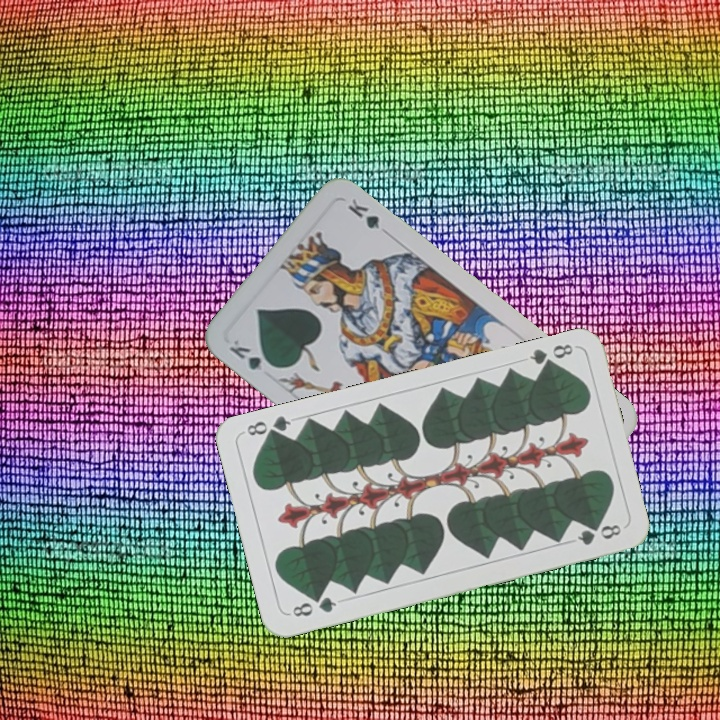G8: (525, 339, 576, 372), (285, 593, 339, 620)
GK: (225, 335, 279, 373)
